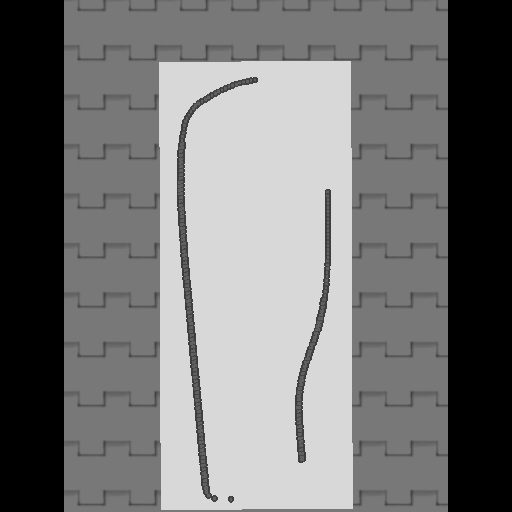Defect: (257, 73, 341, 190)
